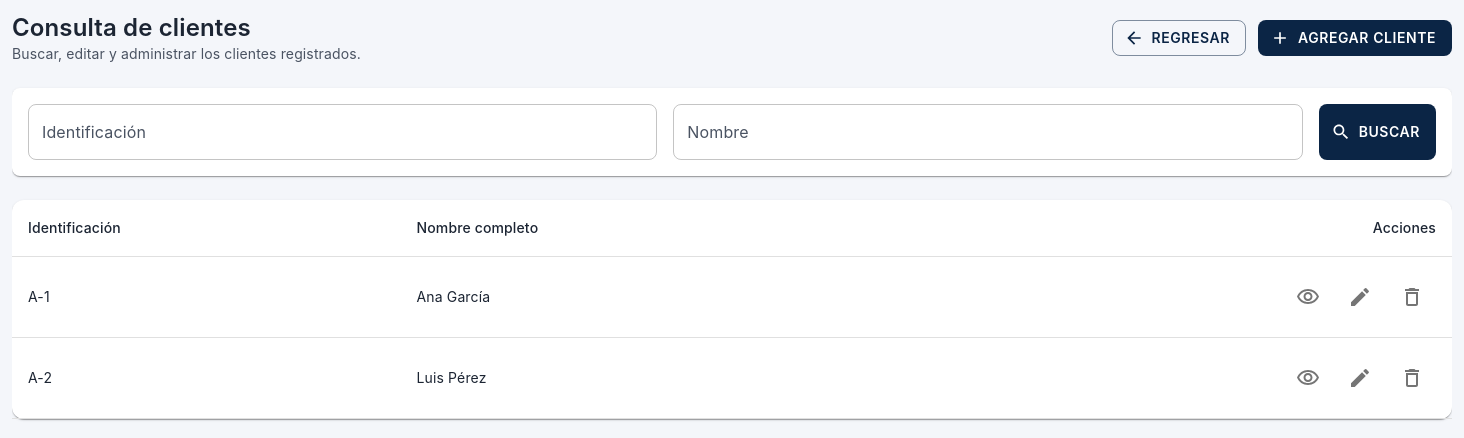
Test: ClientsListPage › re-queries the repository with trimmed filters on search
Check: the row with test id "client-row-1" is shown, box x1=12 y1=256 x2=1452 y2=338
Type "  A-1  " into the field with test id "filter-identification" at (343, 132), box x1=28 y1=104 x2=657 y2=160
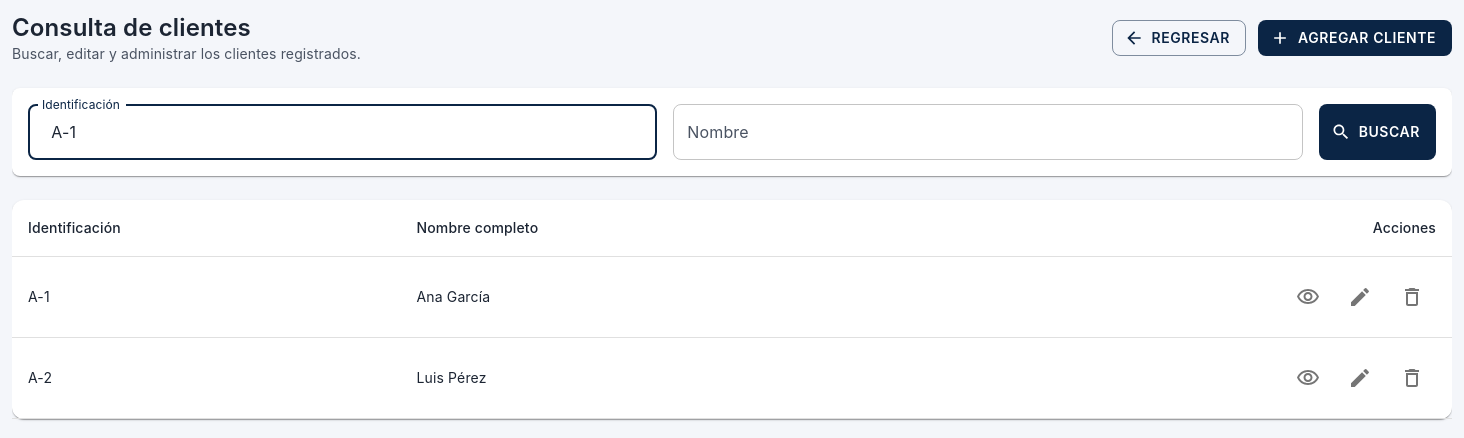
Type " Ana " into the field with test id "filter-name" at (988, 132), box x1=673 y1=104 x2=1303 y2=160
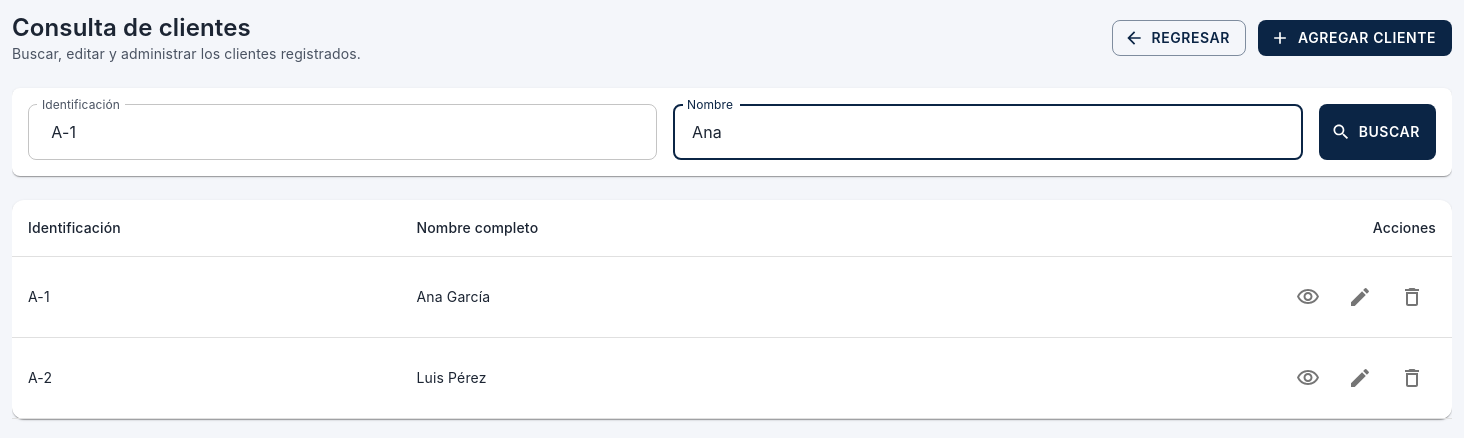
Click the button with test id "filter-submit" at (1377, 132), box x1=1319 y1=104 x2=1436 y2=160
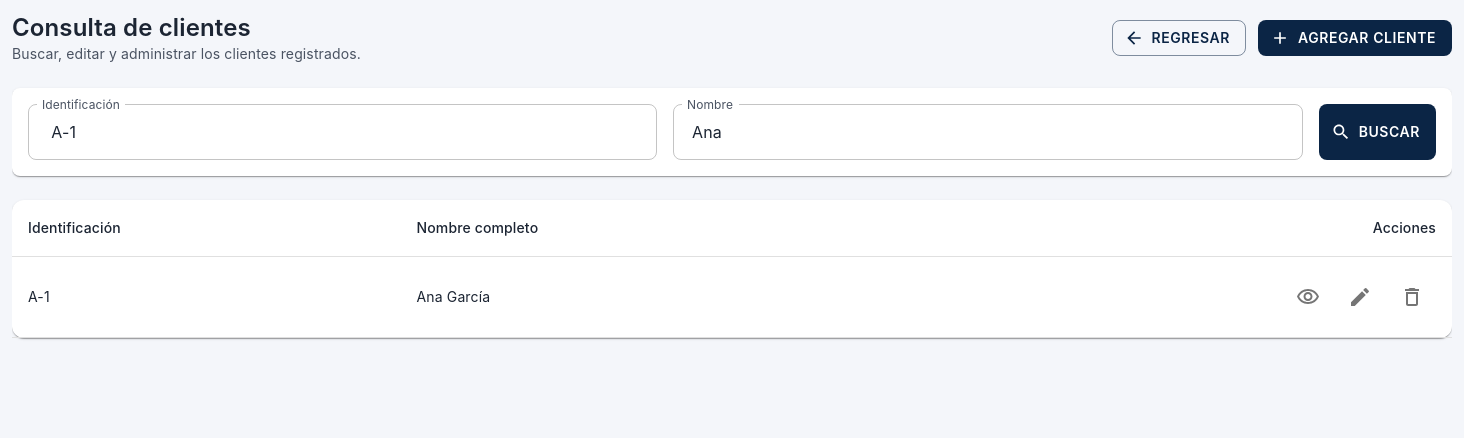
Check: the row with test id "client-row-2" is gone
